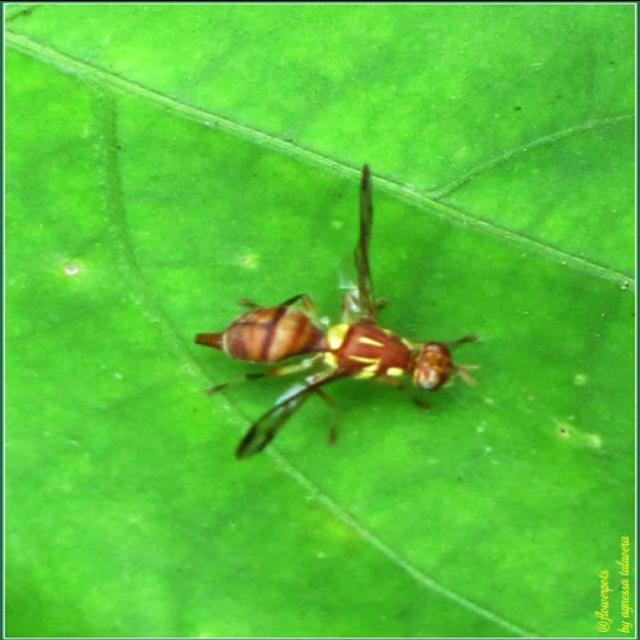Fruit fly: (179, 160, 481, 470)
